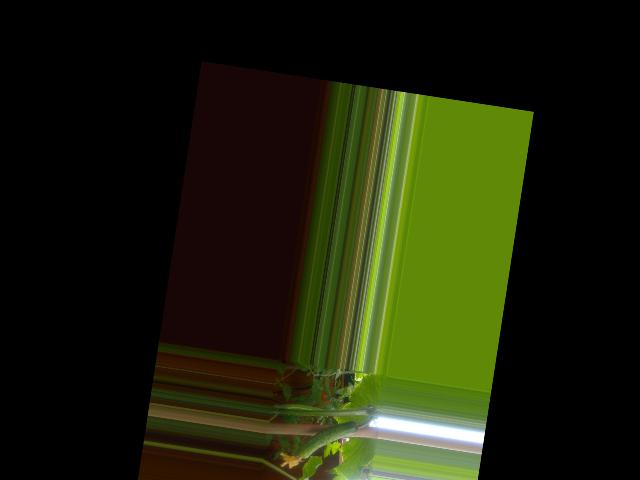cucumber: (277, 411, 358, 478)
